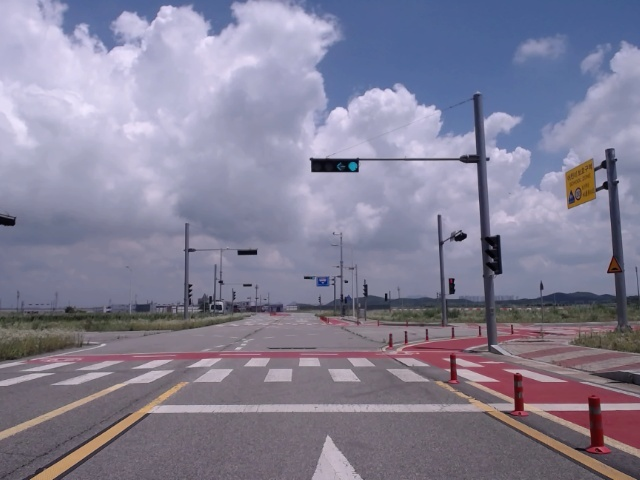all_green_4: (310, 159, 361, 173)
